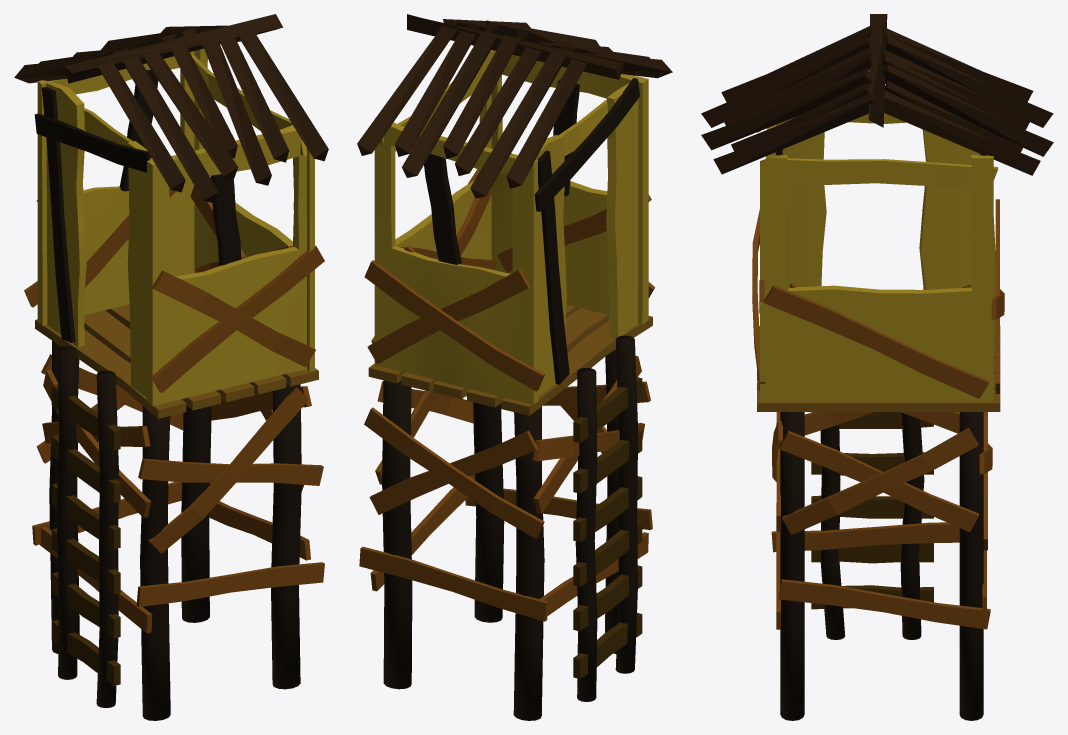
Rendered from CasetaFinal.fbx.
3 views of the same model, side by side, from view 1: azimuth 30°, elevation 25°; view 2: azimuth 150°, elevation 25°; view 3: azimuth 270°, elevation 25° (orthographic).
Parts seen in each view (by area): view 1: Box001, Cylinder_001_Cylinder_002, Cylinder, Cylinder_013_Cylinder_017, Cylinder_012_Cylinder_016, Cylinder_010_Cylinder_016, Cube_004_Cube_005, Cube_005_Cube_006, Cylinder_010_Cylinder_017, Cube_011_Cube_014, Cube_012_Cube_015, Cylinder_008_Cylinder_013 (+28 smaller); view 2: Box001, Cylinder, Cylinder_010_Cylinder_017, Cylinder_001_Cylinder_002, Cylinder_013_Cylinder_017, Cylinder_012_Cylinder_016, Cube_001_Cube_002, Cube_001_Cube_003, Cube_002_Cube_003, Cylinder_008_Cylinder_013, Cylinder_011_Cylinder_015, Cube_Cube_001 (+30 smaller); view 3: Box001, Cylinder_010_Cylinder_017, Cylinder, Cylinder_001_Cylinder_002, Cylinder_010_Cylinder_014, Cube_016_Cube_019, Cube_001_Cube_004, Cylinder_011_Cylinder_015, Cube_016_Cube_018, Cube_015_Cube_017, Cylinder_010_Cylinder_016, Cube_014_Cube_016 (+17 smaller).
Part boxes in pixels (x1,y1,x2,y2): Box001: (37,48,314,405); Cylinder_001_Cylinder_002: (140,383,301,720); Cylinder: (49,341,211,653); Cylinder_013_Cylinder_017: (96,370,118,707); Cylinder_012_Cylinder_016: (56,346,77,679); Cylinder_010_Cylinder_016: (73,39,238,179); Cube_004_Cube_005: (148,387,308,553); Cube_005_Cube_006: (136,562,324,606); Cylinder_010_Cylinder_017: (101,28,271,185); Cube_011_Cube_014: (151,245,324,392); Cube_012_Cube_015: (151,270,315,367); Cylinder_008_Cylinder_013: (14,56,185,192); Box001: (374,55,648,404); Cylinder: (382,380,544,720); Cylinder_010_Cylinder_017: (402,20,599,177); Cylinder_001_Cylinder_002: (473,349,618,653); Cylinder_013_Cylinder_017: (615,335,637,673); Cylinder_012_Cylinder_016: (575,368,597,701); Cube_001_Cube_002: (364,407,544,538); Cube_001_Cube_003: (364,260,544,391); Cube_002_Cube_003: (359,546,548,621); Cylinder_008_Cylinder_013: (506,52,672,188); Cylinder_011_Cylinder_015: (470,44,649,198); Cube_Cube_001: (369,430,538,514); Box001: (760,118,996,401); Cylinder_010_Cylinder_017: (701,54,1053,156); Cylinder: (959,412,983,720); Cylinder_001_Cylinder_002: (780,412,804,720); Cylinder_010_Cylinder_014: (713,90,1040,175); Cube_016_Cube_019: (764,285,989,398); Cube_001_Cube_004: (787,158,998,191); Cylinder_011_Cylinder_015: (701,35,1053,127); Cube_016_Cube_018: (778,579,990,629); Cube_015_Cube_017: (782,427,978,534); Cylinder_010_Cylinder_016: (722,47,1032,132); Cube_014_Cube_016: (779,430,978,531).
Size of the model in its own units: 5.67 by 16.34 by 8.37.
